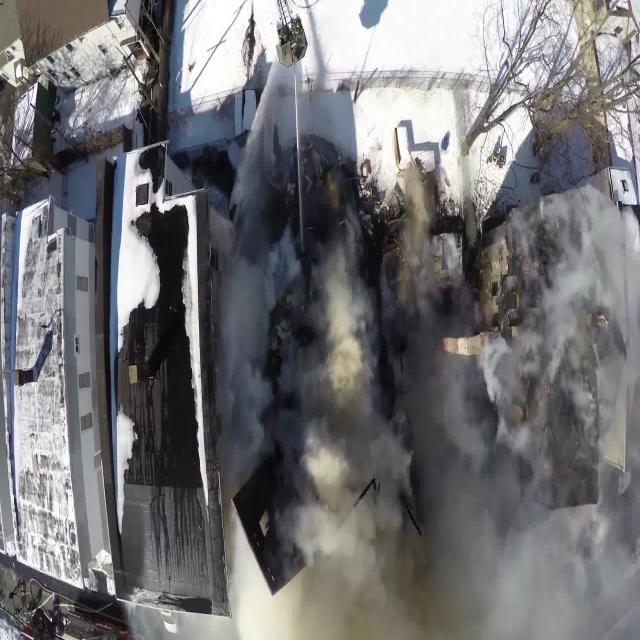Smoke: (212, 203, 640, 640)
